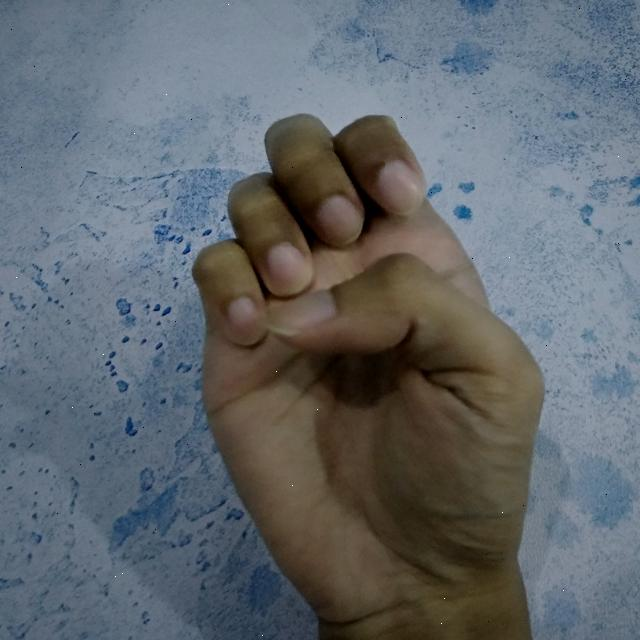E: (198, 107, 550, 640)
